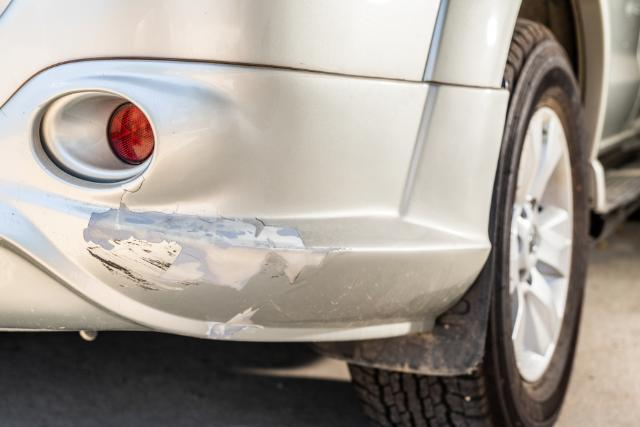Bumper: (20, 125, 440, 342)
